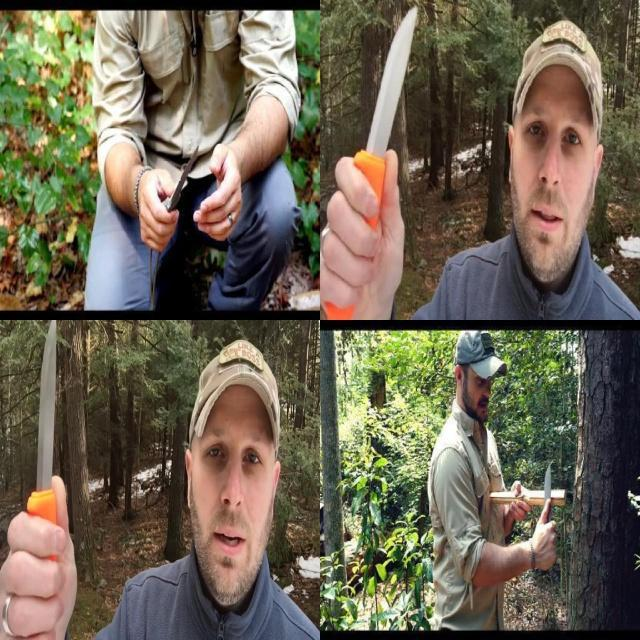-: (319, 7, 427, 314), (0, 319, 79, 585), (140, 142, 200, 244), (536, 459, 559, 560)
